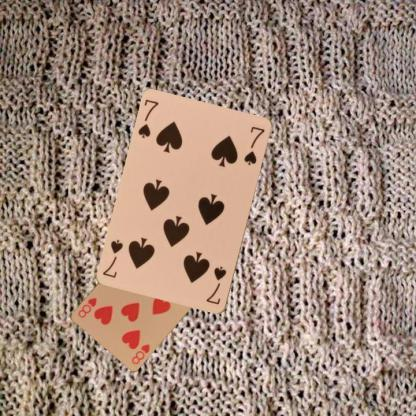7s: (135, 96, 160, 140), (204, 264, 228, 306)
8h: (129, 340, 151, 366)
